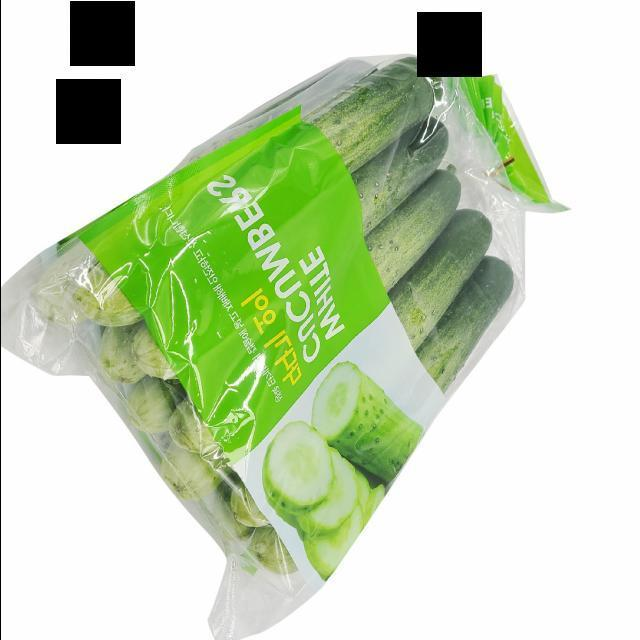cucumber: (4, 52, 553, 616)
